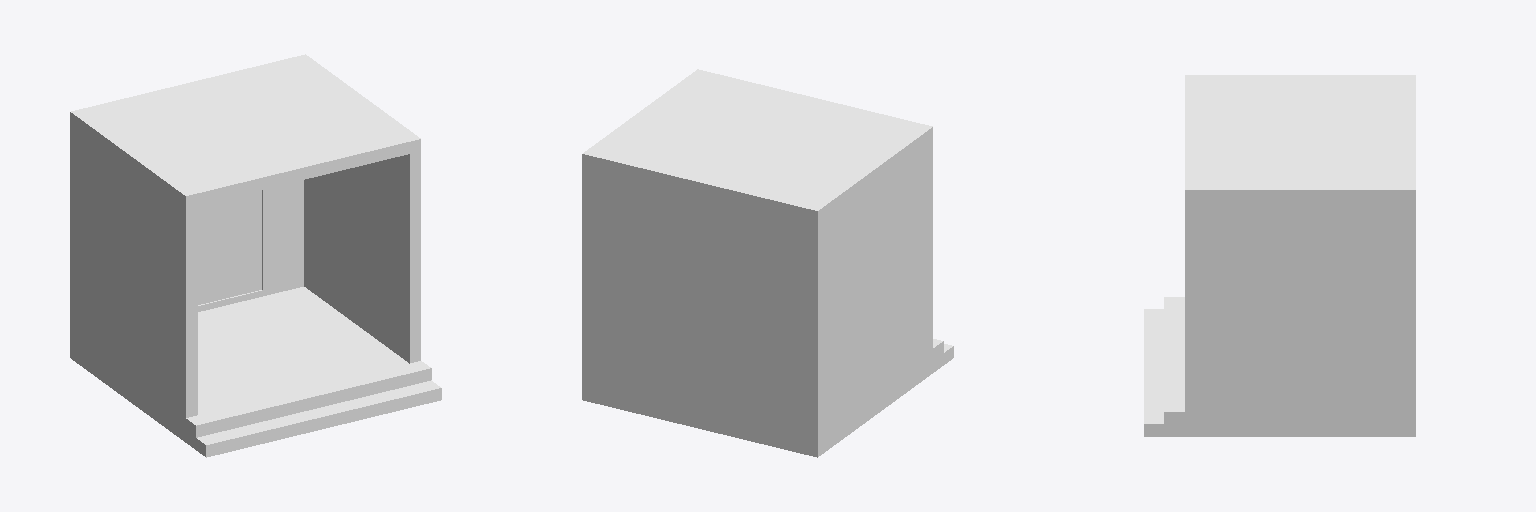
Rendered from entrance3-1-lod2.obj.
The picture shows the model from 3 angles: view 1: azimuth 30°, elevation 25°; view 2: azimuth 150°, elevation 25°; view 3: azimuth 270°, elevation 25°; orthographic projection.
Parts seen in each view (by area): view 1: lod2; view 2: lod2; view 3: lod2.
Boxes of the visible parts, <box> form: lod2: <box>70,54,441,457</box>; lod2: <box>582,69,953,457</box>; lod2: <box>1144,75,1415,436</box>.
Size of the model in its own units: 16 by 16 by 16.